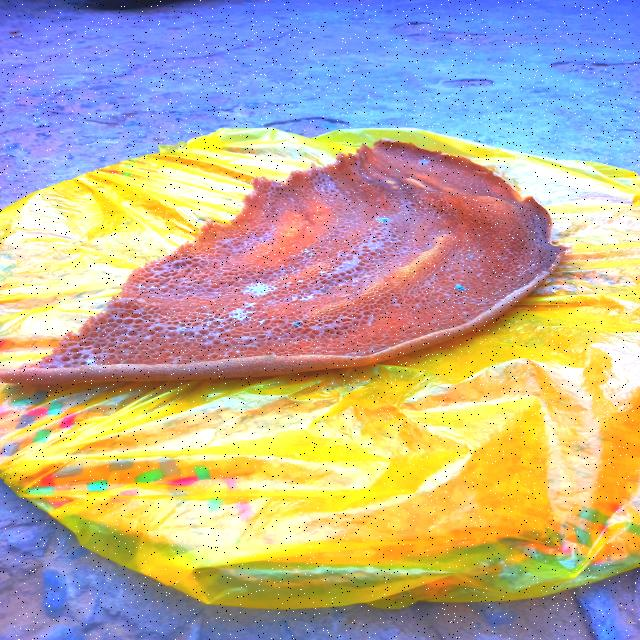injera_mold: (244, 283, 275, 296), (230, 308, 250, 322), (300, 250, 316, 260), (299, 294, 314, 303), (417, 157, 431, 166), (455, 283, 465, 292), (379, 215, 389, 222), (181, 327, 198, 331), (242, 302, 256, 306), (205, 314, 218, 318), (86, 361, 99, 365), (172, 358, 180, 364), (294, 321, 300, 328), (138, 283, 144, 290), (260, 320, 268, 325), (205, 322, 211, 327), (319, 271, 326, 275), (201, 305, 207, 309), (144, 336, 150, 340), (219, 323, 223, 328), (235, 350, 240, 354), (368, 321, 372, 326), (119, 334, 129, 336), (468, 255, 474, 258), (186, 336, 192, 339), (297, 280, 305, 282), (96, 327, 100, 331), (518, 273, 523, 276), (194, 324, 201, 326), (200, 334, 204, 337), (178, 321, 182, 324), (462, 312, 468, 314), (556, 255, 560, 258), (150, 307, 153, 310), (523, 270, 527, 272), (531, 264, 535, 266), (540, 260, 544, 262), (540, 263, 544, 265), (528, 270, 531, 272), (223, 316, 226, 318), (66, 336, 68, 339), (441, 311, 444, 313), (440, 313, 443, 315), (399, 318, 402, 320), (544, 260, 546, 262), (437, 310, 439, 312), (450, 312, 453, 312)
